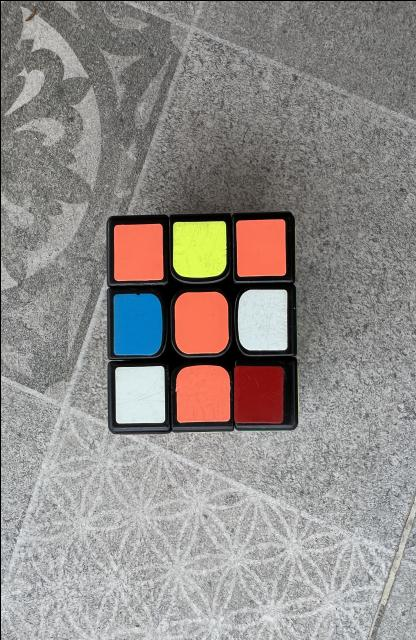Blue: (113, 292, 161, 355)
Orange: (173, 290, 228, 354), (174, 364, 230, 421), (235, 219, 285, 276), (113, 222, 162, 280)
Red: (233, 365, 283, 422)
White: (236, 289, 287, 350), (114, 365, 165, 422)
Yellow: (172, 220, 225, 278)
